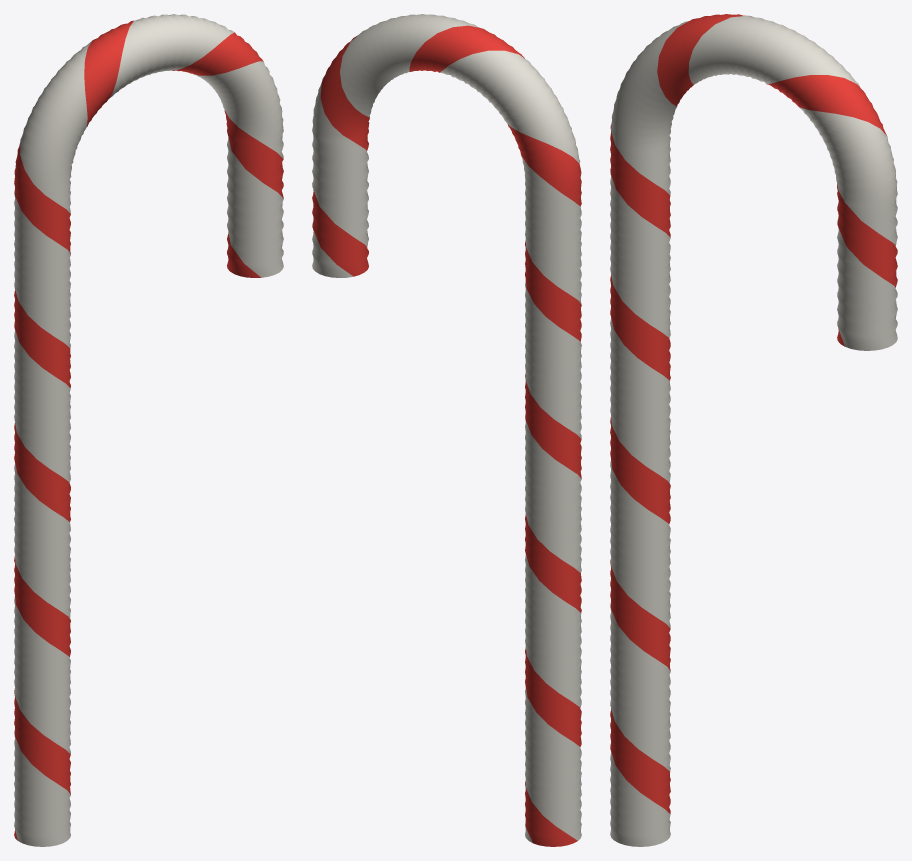
File: christmas_candy_cane_giant.glb
3 views of the same model, side by side, from view 1: azimuth 30°, elevation 25°; view 2: azimuth 150°, elevation 25°; view 3: azimuth 330°, elevation 25° (orthographic). The views are drawn at different scales.
Parts seen in each view (by area): view 1: Giant_Candy_Cane_Continuous_Striped_Tube; view 2: Giant_Candy_Cane_Continuous_Striped_Tube; view 3: Giant_Candy_Cane_Continuous_Striped_Tube.
Boxes of the visible parts, x1,y1,x2,y2 form: Giant_Candy_Cane_Continuous_Striped_Tube: (14,14,283,846); Giant_Candy_Cane_Continuous_Striped_Tube: (312,14,581,846); Giant_Candy_Cane_Continuous_Striped_Tube: (610,14,897,846).
Bounding box in the file's own units: 0.69 × 1.98 × 0.13.
